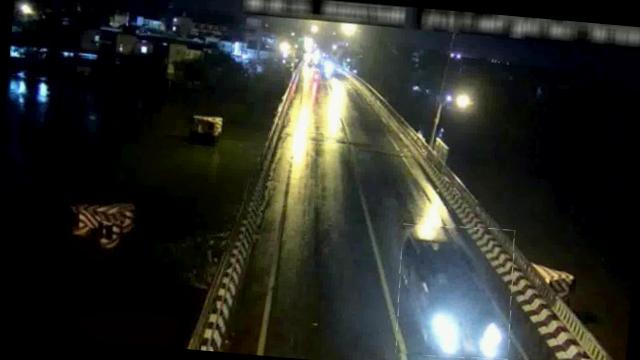Car: (392, 222, 517, 360)
